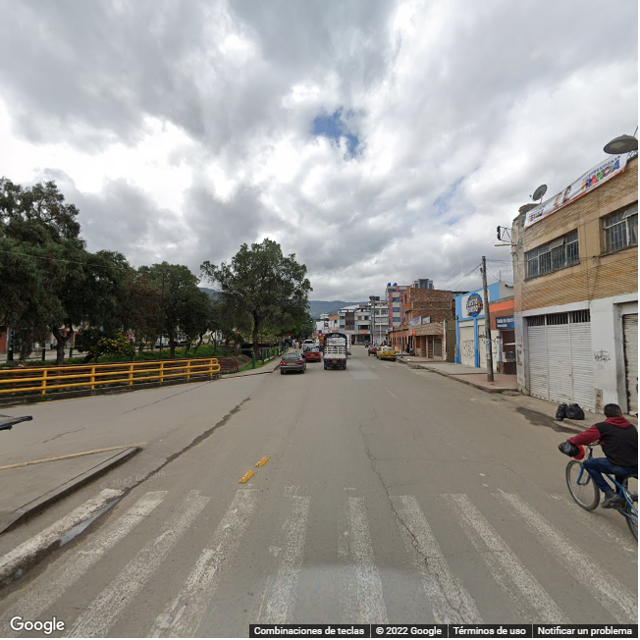D00: (371, 460, 463, 616)
